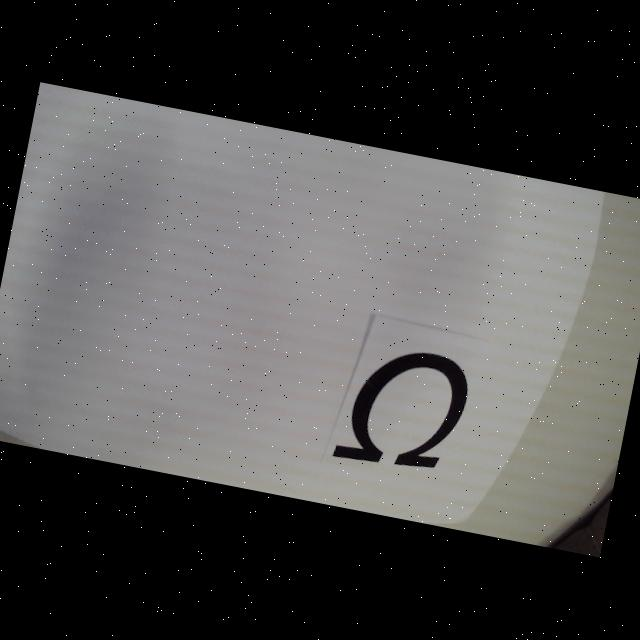OMEGA: (332, 338, 474, 481)
